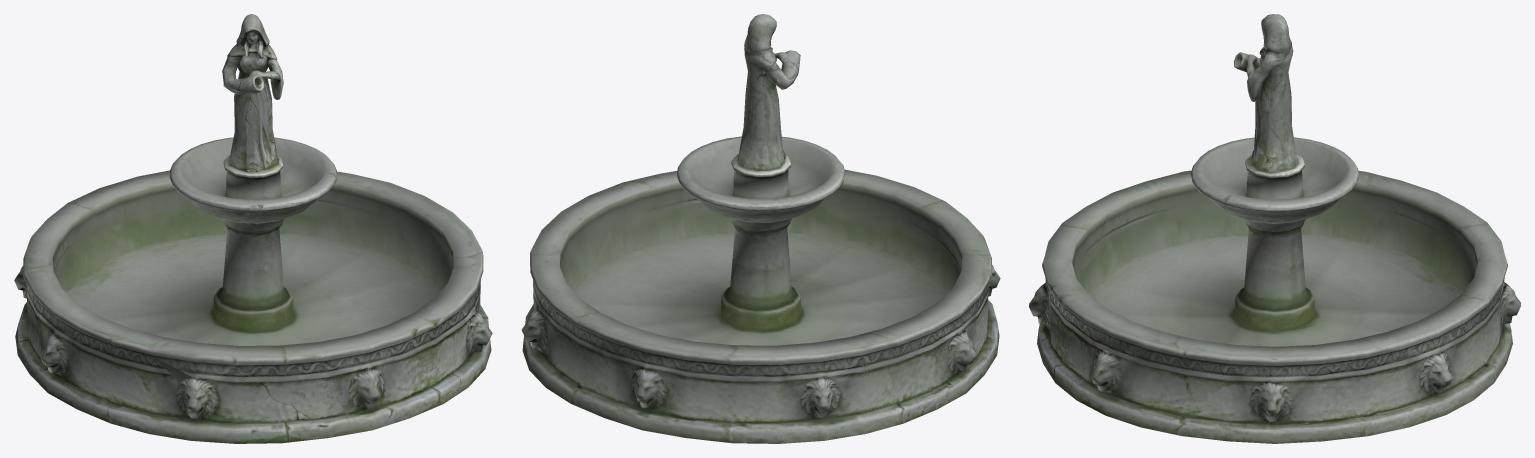
The model's file is fontana.fbx.
The picture shows the model from 3 angles, left to right: view 1: azimuth 30°, elevation 25°; view 2: azimuth 150°, elevation 25°; view 3: azimuth 270°, elevation 25°; orthographic projection.
Visible parts, largest first — view 1: tripo_node_8e708a10; view 2: tripo_node_8e708a10; view 3: tripo_node_8e708a10.
Boxes of the visible parts, x1,y1,x2,y2 form: tripo_node_8e708a10: (14, 14, 492, 443); tripo_node_8e708a10: (521, 14, 1000, 443); tripo_node_8e708a10: (1029, 14, 1520, 443).
Bounding box in the file's own units: 0.9995 × 0.7368 × 0.9995.
1 material, 1 textured.
